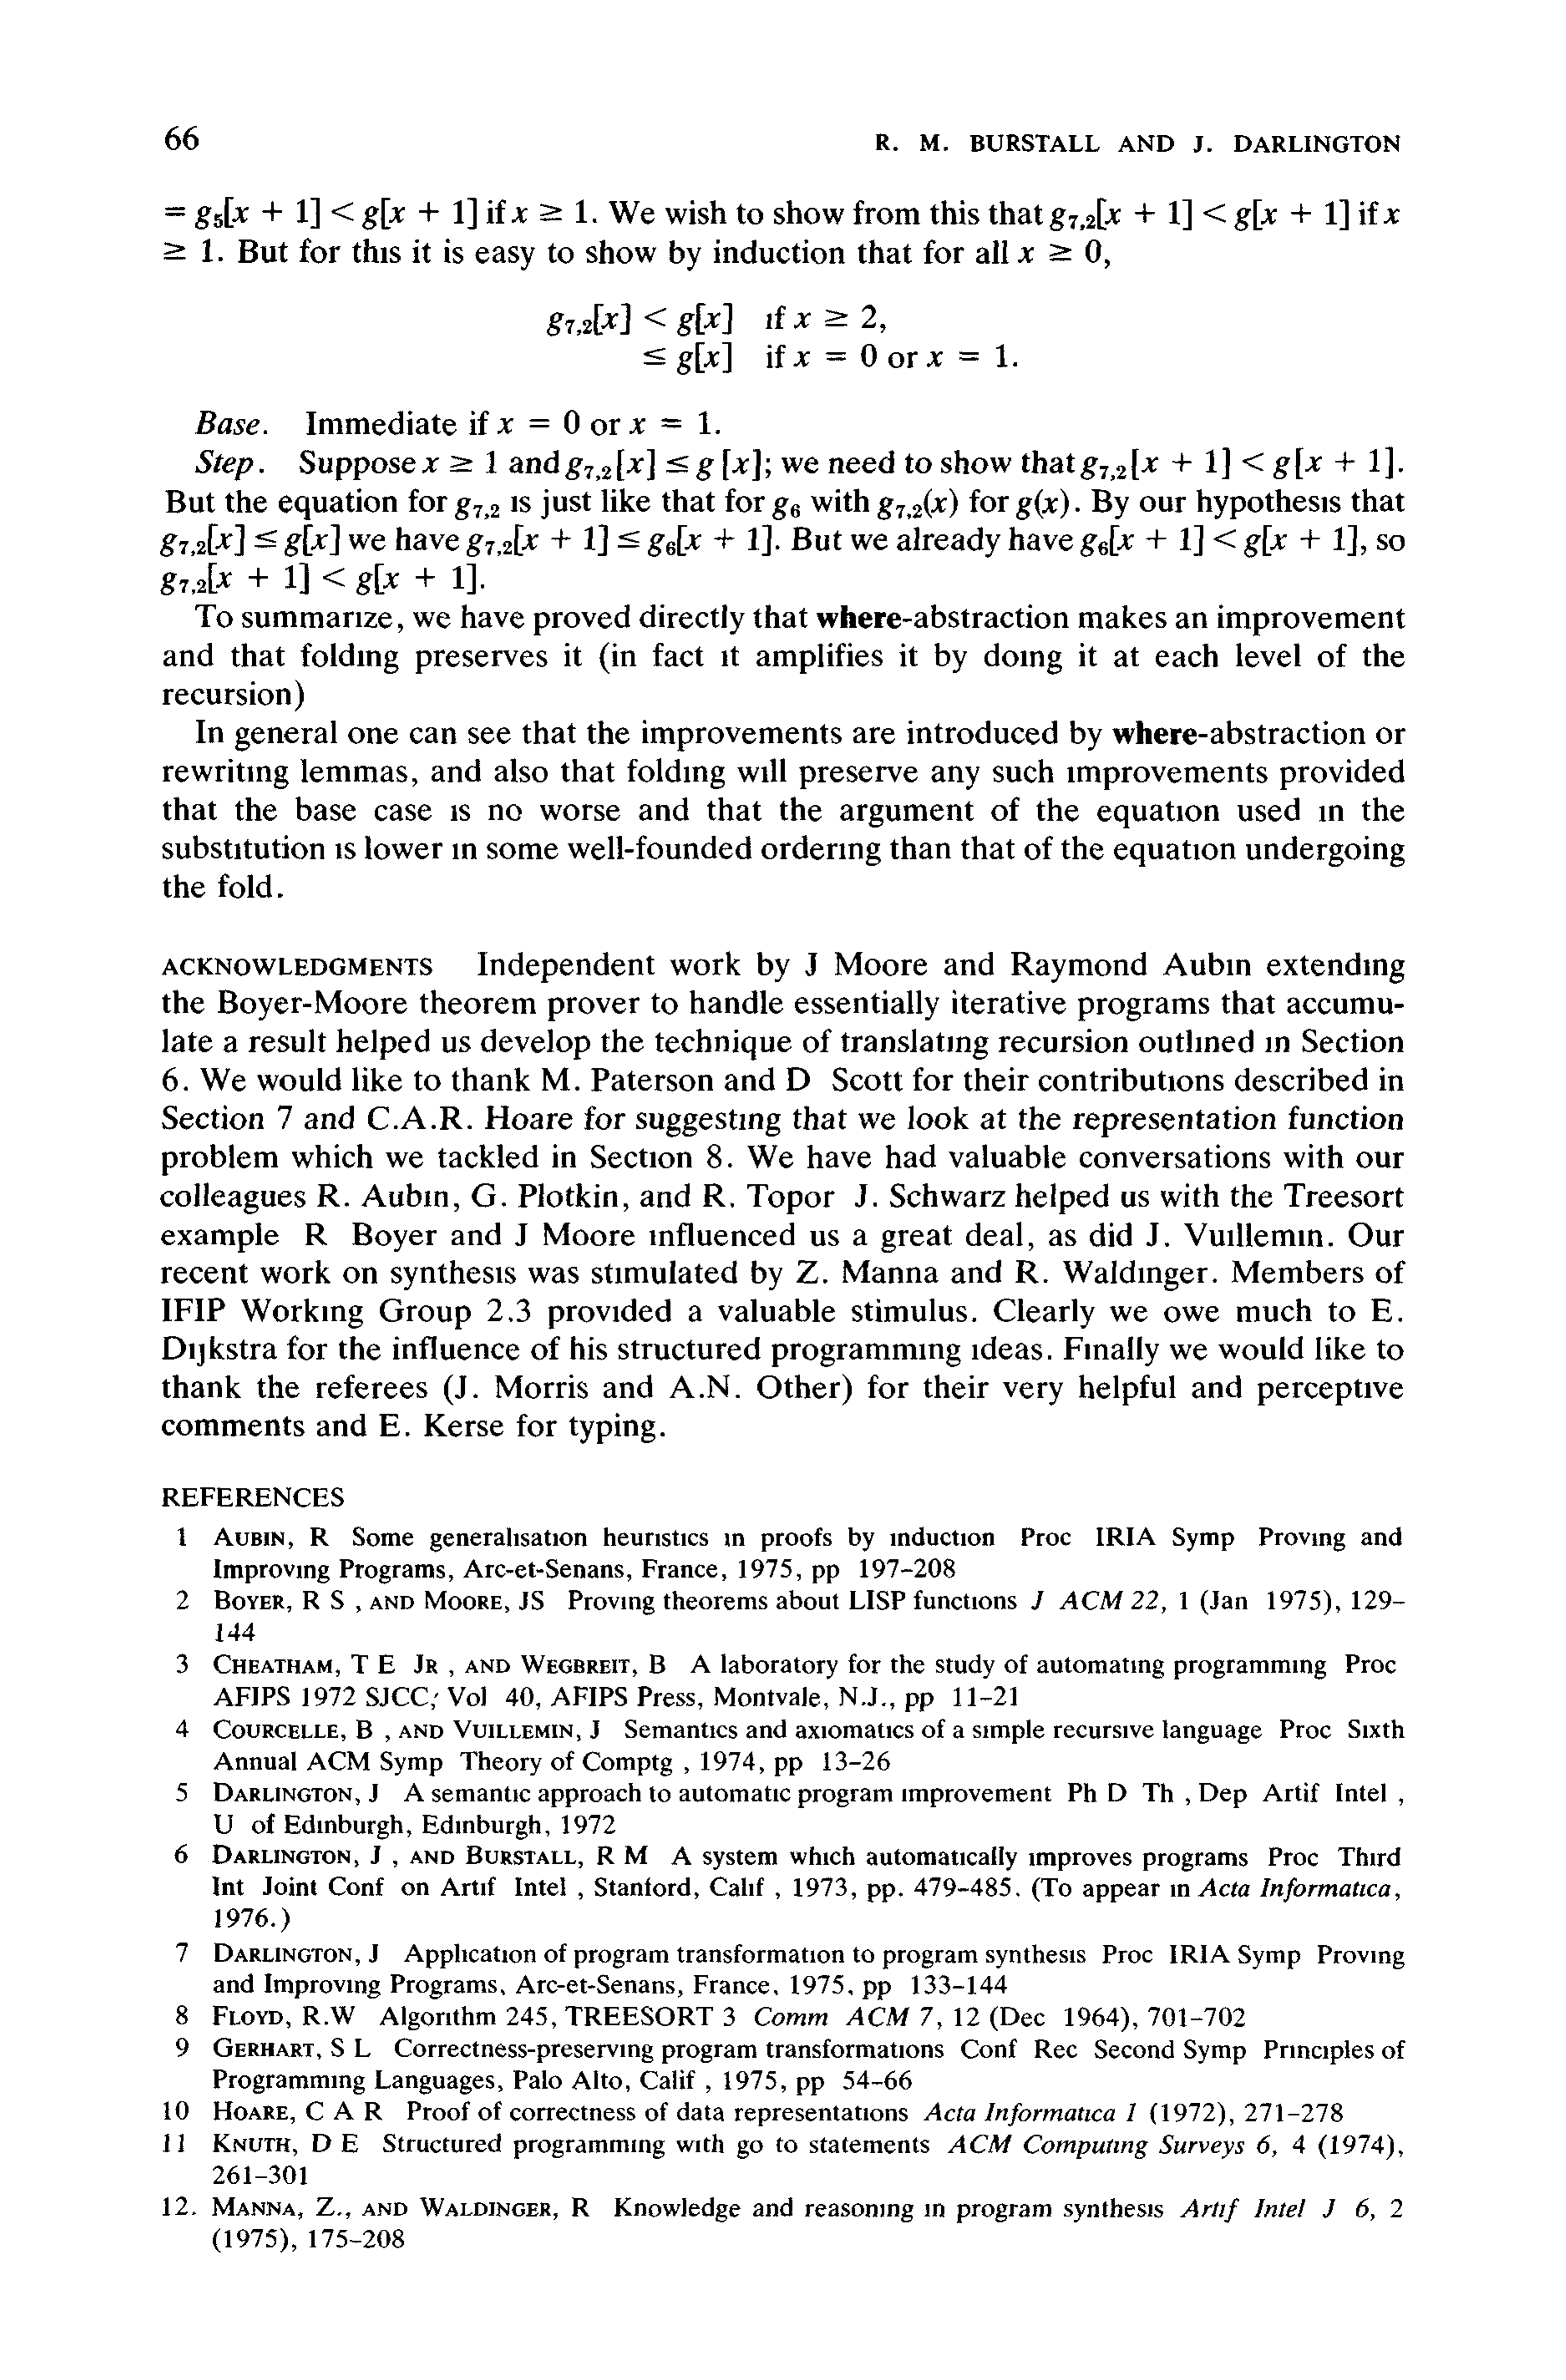maths: (161, 563, 475, 596), (1080, 447, 1393, 481), (166, 197, 477, 231), (467, 524, 771, 557), (1050, 197, 1349, 231), (1080, 526, 1356, 557), (547, 302, 732, 337), (565, 449, 760, 481), (161, 524, 339, 557), (643, 342, 731, 376), (877, 489, 958, 521), (1017, 239, 1101, 264), (793, 304, 876, 329), (498, 411, 580, 435), (629, 411, 711, 435), (793, 344, 877, 367), (926, 344, 1008, 367), (512, 199, 587, 224), (1015, 489, 1070, 521), (423, 451, 496, 474), (164, 239, 213, 262), (454, 498, 500, 521), (773, 496, 800, 521), (435, 1686, 447, 1712), (1384, 208, 1400, 225), (540, 1686, 551, 1712)
